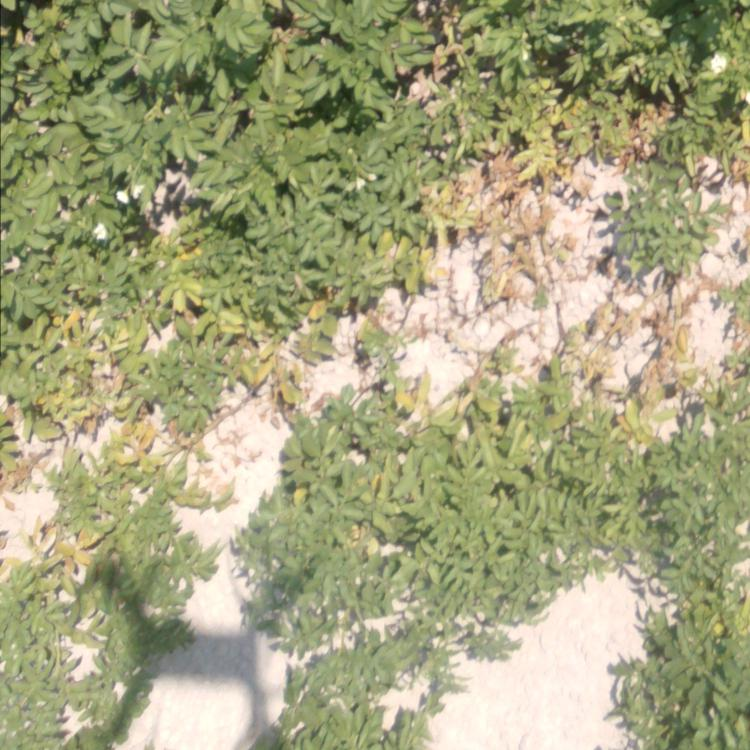healthy: (4, 1, 391, 192), (276, 614, 468, 748), (1, 607, 153, 748), (13, 192, 126, 304)
stressed: (266, 370, 647, 595), (418, 12, 750, 185), (657, 357, 750, 745), (143, 204, 268, 435), (68, 431, 180, 604), (406, 183, 551, 281), (288, 203, 399, 312), (603, 191, 720, 285), (1, 319, 95, 422)
